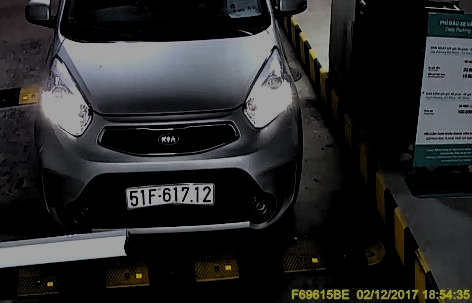plate: (124, 180, 217, 207)
